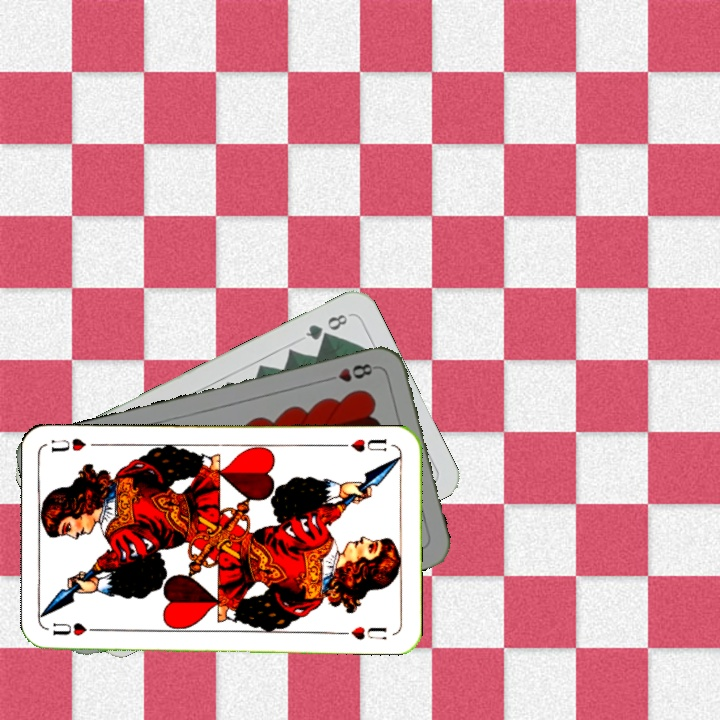G8: (301, 309, 350, 343)
H8: (321, 359, 379, 385)
HU: (48, 619, 105, 639), (337, 435, 390, 455)
